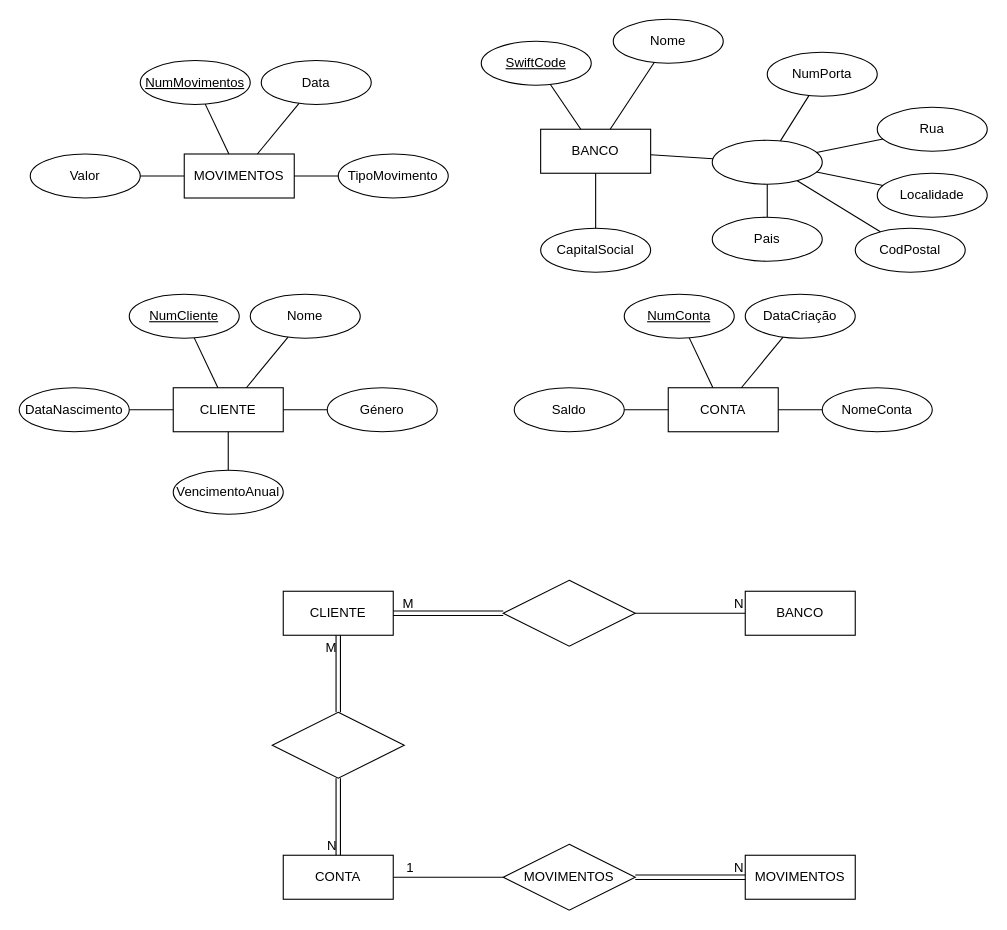
This 1007x930 diagram has some shape labels left out. The box of each missing label's shape, as (x1, y1, x2, y2) in pixels:
CONTA_DE: (271, 711, 404, 778)
Morada: (711, 139, 822, 184)
PERTENCE_A: (502, 579, 635, 646)
